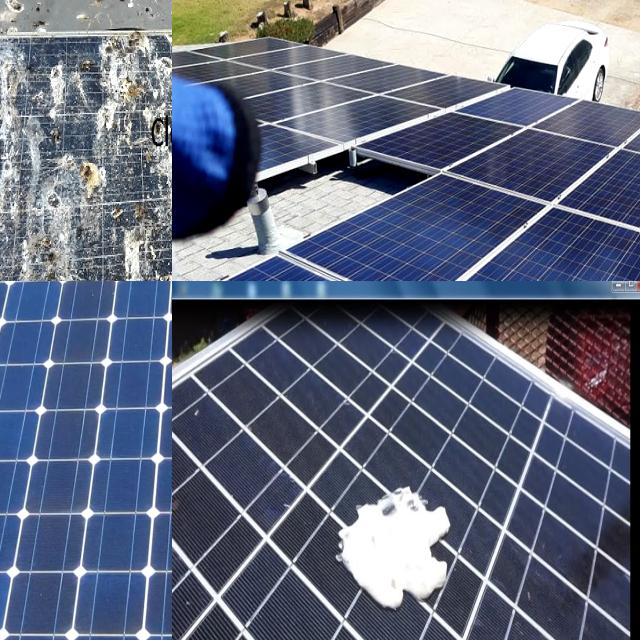bird: (330, 446, 466, 614), (110, 190, 158, 267), (0, 40, 37, 106), (98, 29, 160, 66), (75, 145, 108, 205), (40, 229, 78, 281), (106, 80, 144, 132), (43, 45, 68, 122)
crack: (282, 188, 560, 281), (471, 123, 612, 210), (17, 392, 115, 497), (79, 501, 172, 586), (416, 113, 518, 185), (6, 510, 104, 583), (28, 356, 122, 424), (6, 567, 84, 640), (366, 221, 456, 281), (93, 359, 172, 424), (13, 570, 78, 639), (0, 496, 45, 590), (0, 281, 70, 339), (0, 403, 55, 469), (524, 250, 640, 281), (57, 281, 132, 328), (0, 567, 48, 640), (0, 455, 41, 529), (134, 563, 172, 640), (0, 511, 39, 577), (0, 281, 41, 332), (146, 507, 172, 584), (613, 151, 640, 225), (0, 287, 31, 328)
